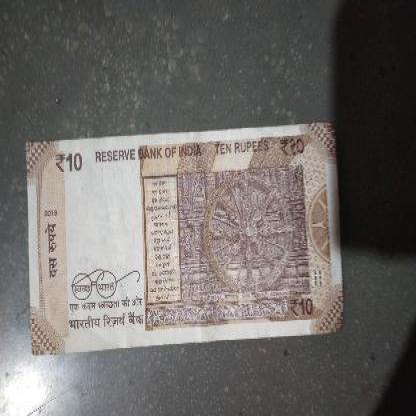New10Back: (26, 121, 346, 348)
